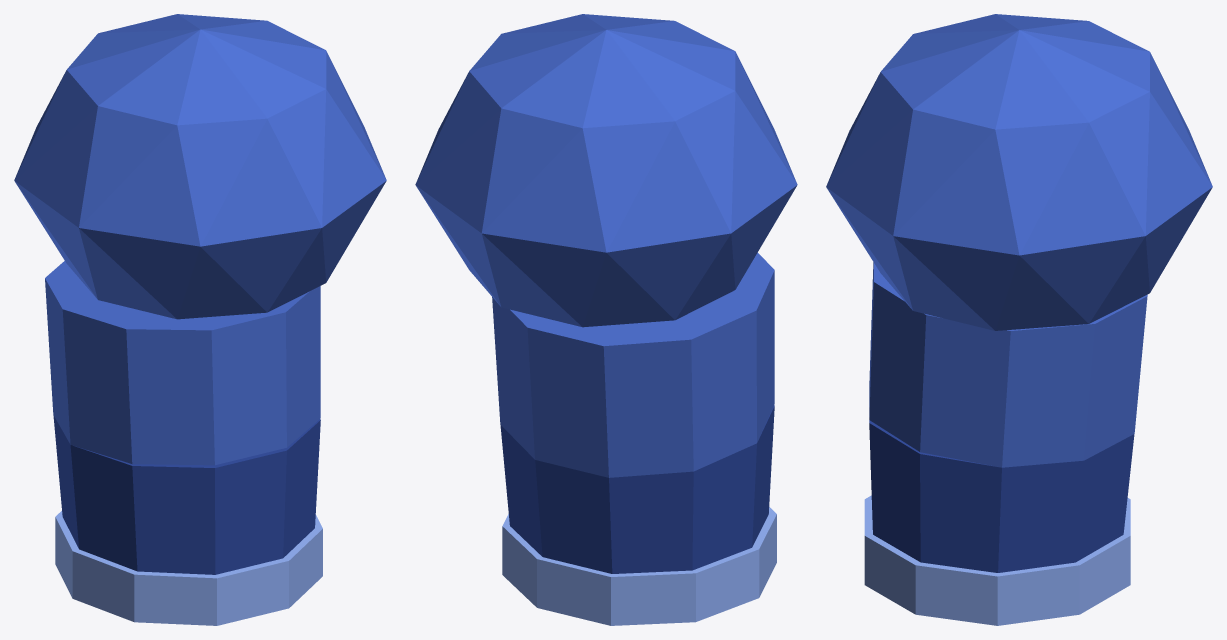
File: gear_mithril_chainbody_arm_l.glb
3 views of the same model, side by side, from view 1: azimuth 30°, elevation 25°; view 2: azimuth 150°, elevation 25°; view 3: azimuth 270°, elevation 25° (orthographic). The views are drawn at different scales.
Parts seen in each view (by area): view 1: gear_mithril_chainbody_arm_l; view 2: gear_mithril_chainbody_arm_l; view 3: gear_mithril_chainbody_arm_l.
Part boxes in pixels (x1,y1,x2,y2): gear_mithril_chainbody_arm_l: [14, 14, 386, 625]; gear_mithril_chainbody_arm_l: [415, 14, 797, 625]; gear_mithril_chainbody_arm_l: [826, 14, 1212, 625].
Bounding box in the file's own units: 0.1746 × 0.277 × 0.1773.
